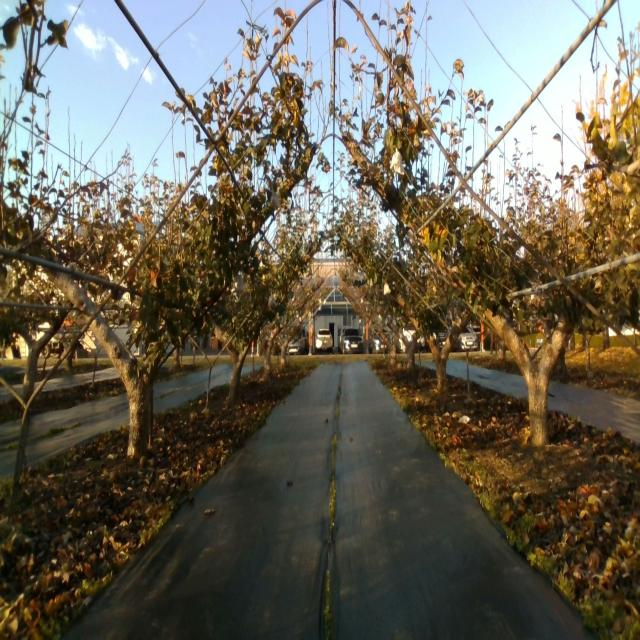pearbags: (391, 147, 405, 175)
